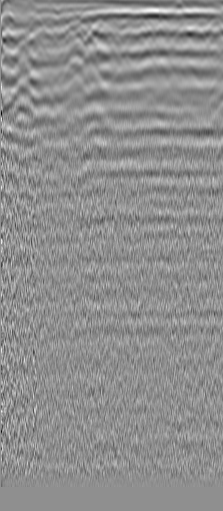오수: (18, 23, 58, 47)
우수: (168, 22, 203, 49)
